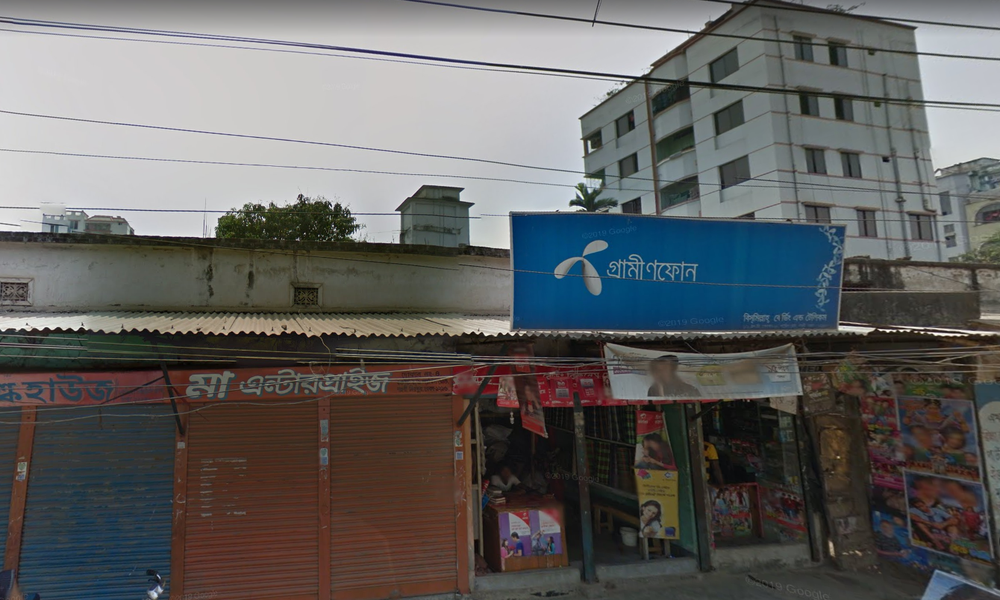SignBoard: (511, 211, 840, 327)
